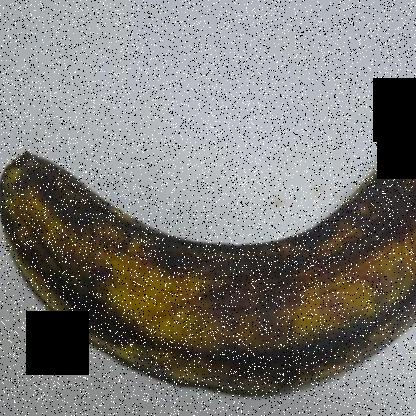overripe: (0, 112, 415, 415)
